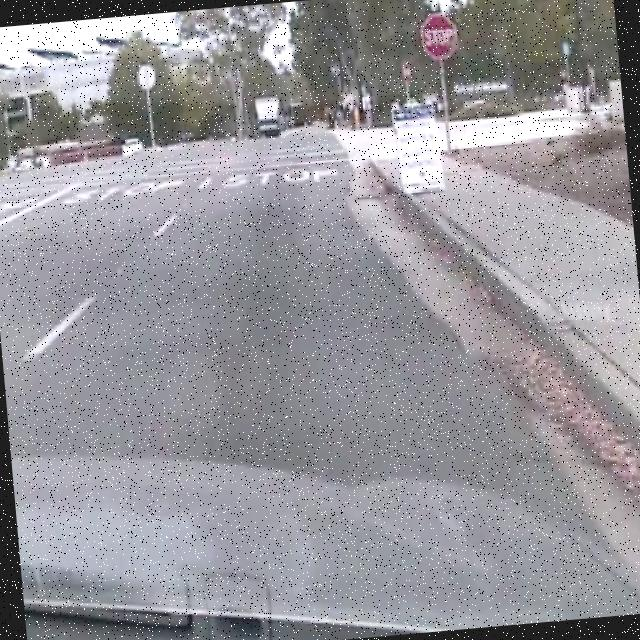Stop: (418, 7, 460, 64)
